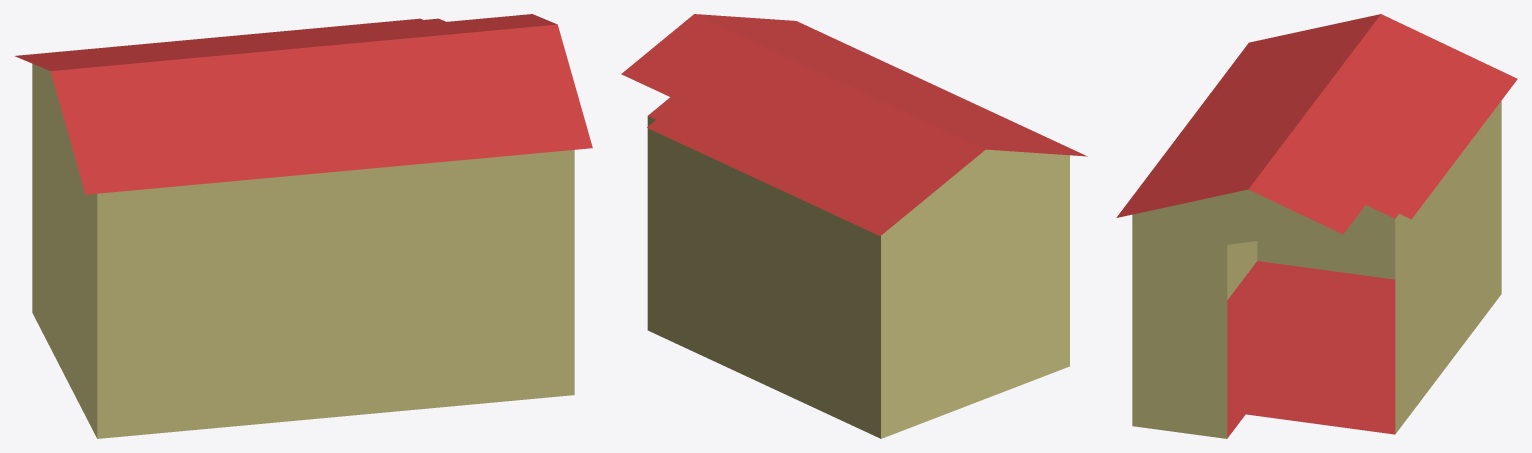
3 views of the same model, side by side, from view 1: azimuth 30°, elevation 25°; view 2: azimuth 150°, elevation 25°; view 3: azimuth 270°, elevation 25° (orthographic). The views are drawn at different scales.
Bounding box in the file's own units: 18.94 × 15.6 × 11.05.
